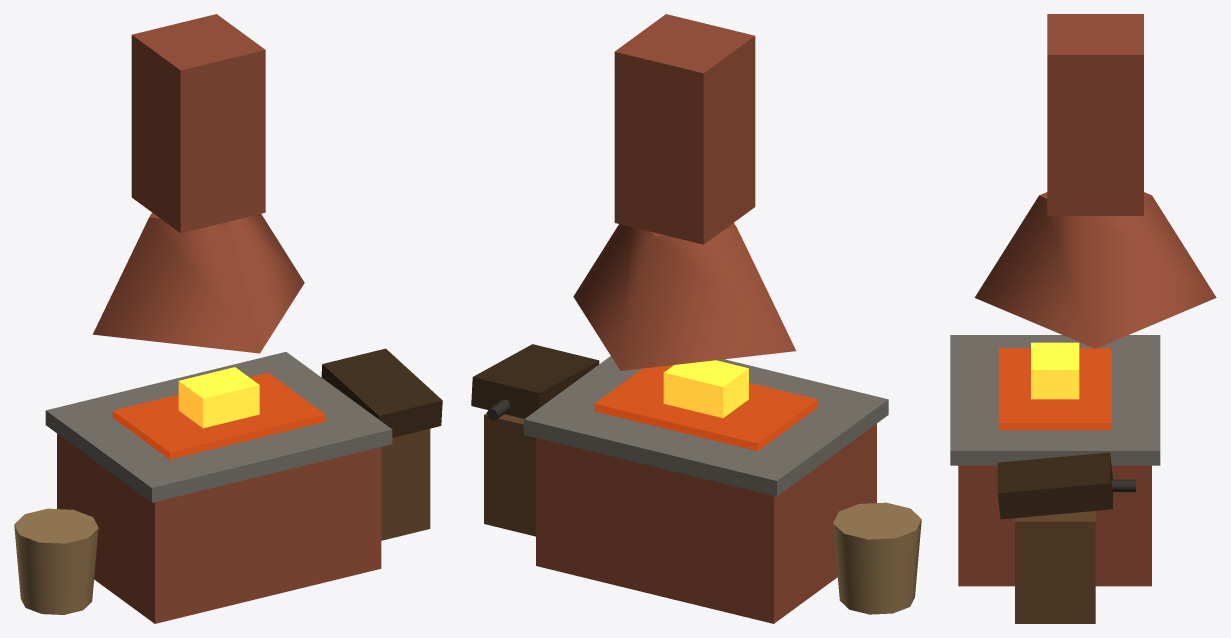
The model's file is mv_forge.glb.
3 renders of one model, left to right at view 1: azimuth 30°, elevation 25°; view 2: azimuth 150°, elevation 25°; view 3: azimuth 270°, elevation 25°, orthographic. The views are drawn at different scales.
Parts seen in each view (by area): view 1: mv_forge; view 2: mv_forge; view 3: mv_forge.
Part boxes in pixels (x1,y1,x2,y2): mv_forge: (14,14,442,623); mv_forge: (471,14,921,623); mv_forge: (950,14,1216,623).
Bounding box in the file's own units: 2.78 × 3.4 × 1.65.
